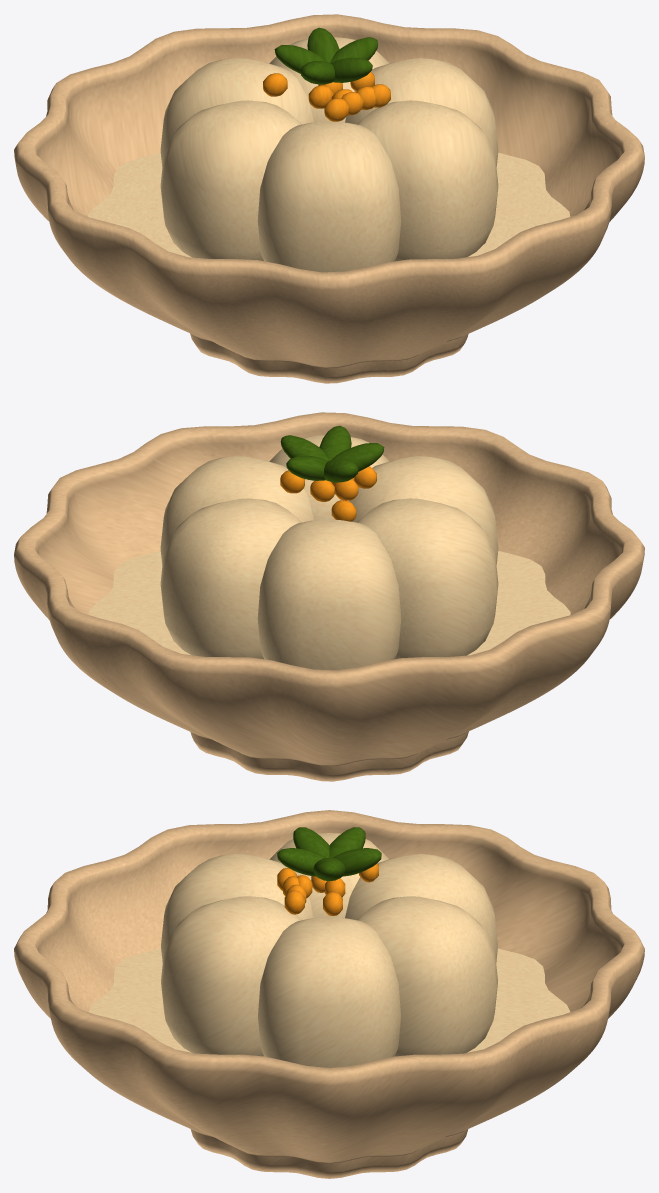
File: 07-yuzu-radish.glb
3 views of the same model, one above another, from view 1: azimuth 30°, elevation 25°; view 2: azimuth 150°, elevation 25°; view 3: azimuth 270°, elevation 25° (orthographic).
Visible parts, largest first — view 1: Ivory glazed ceramic, Radish ivory, Fresh leaf, Crispy tempura; view 2: Ivory glazed ceramic, Radish ivory, Fresh leaf, Crispy tempura; view 3: Ivory glazed ceramic, Radish ivory, Fresh leaf, Crispy tempura.
Boxes of the visible parts, x1,y1,x2,y2 form: Ivory glazed ceramic: [14, 14, 644, 383]; Radish ivory: [88, 37, 570, 272]; Fresh leaf: [274, 27, 378, 84]; Crispy tempura: [263, 72, 390, 121]; Ivory glazed ceramic: [14, 412, 644, 781]; Radish ivory: [88, 435, 570, 670]; Fresh leaf: [280, 425, 384, 482]; Crispy tempura: [280, 466, 376, 521]; Ivory glazed ceramic: [14, 810, 644, 1178]; Radish ivory: [88, 833, 570, 1067]; Fresh leaf: [277, 827, 381, 881]; Crispy tempura: [277, 863, 378, 915].
Bounding box in the file's own units: 0.0341 × 0.0163 × 0.0341.
Materials: 4 (4 with a texture image).
